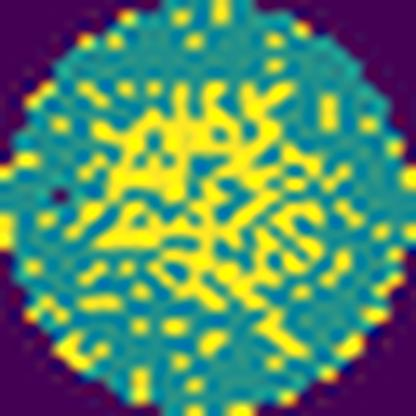Center: (73, 81, 346, 307)
